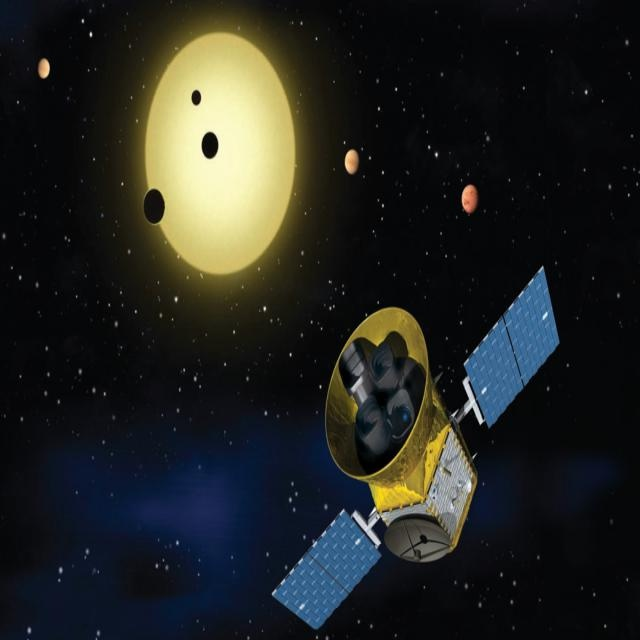large_debris: (138, 178, 166, 228), (336, 138, 365, 182), (457, 175, 481, 221), (201, 125, 220, 163), (34, 49, 49, 79)
medium_debris: (270, 254, 561, 630)
